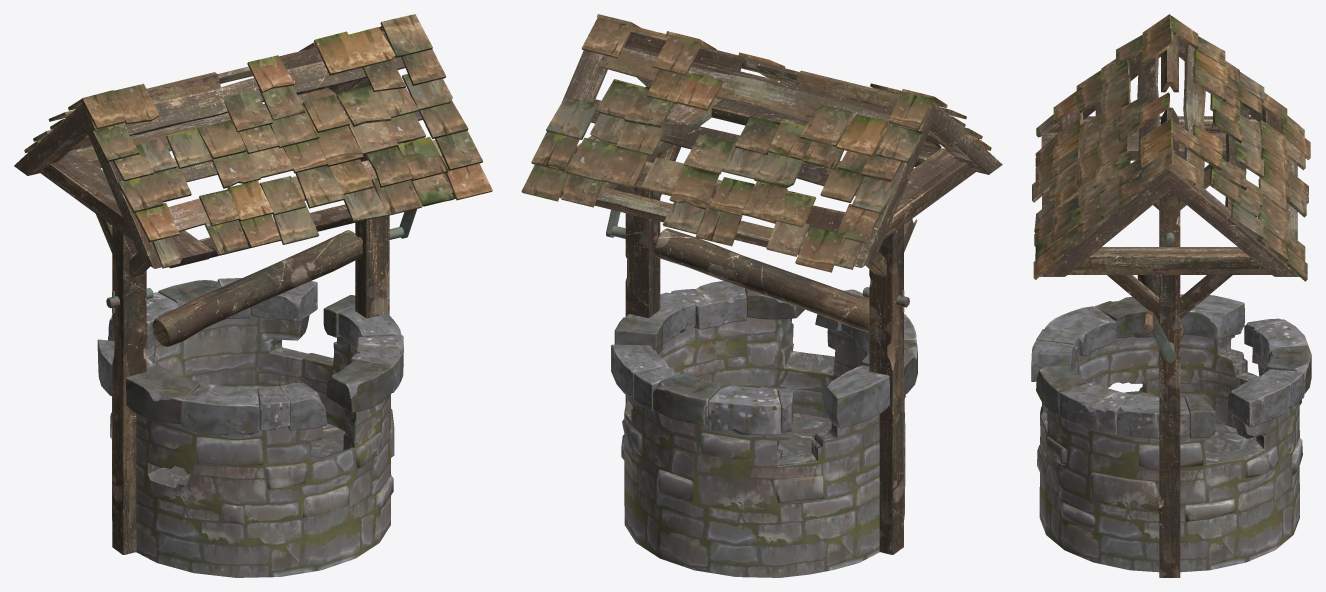
3 renders of one model, left to right at view 1: azimuth 30°, elevation 25°; view 2: azimuth 150°, elevation 25°; view 3: azimuth 270°, elevation 25°, orthographic. The views are drawn at different scales.
Parts seen in each view (by area): view 1: SM_Village_Well_v1_LOD0; view 2: SM_Village_Well_v1_LOD0; view 3: SM_Village_Well_v1_LOD0.
Part boxes in pixels (left/top/right/bottom): SM_Village_Well_v1_LOD0: left=14, top=14, right=492, bottom=577; SM_Village_Well_v1_LOD0: left=521, top=14, right=1002, bottom=577; SM_Village_Well_v1_LOD0: left=1031, top=14, right=1311, bottom=577.
Size of the model in its own units: 2.29 by 2.86 by 1.7.
3 materials, 3 textured.
